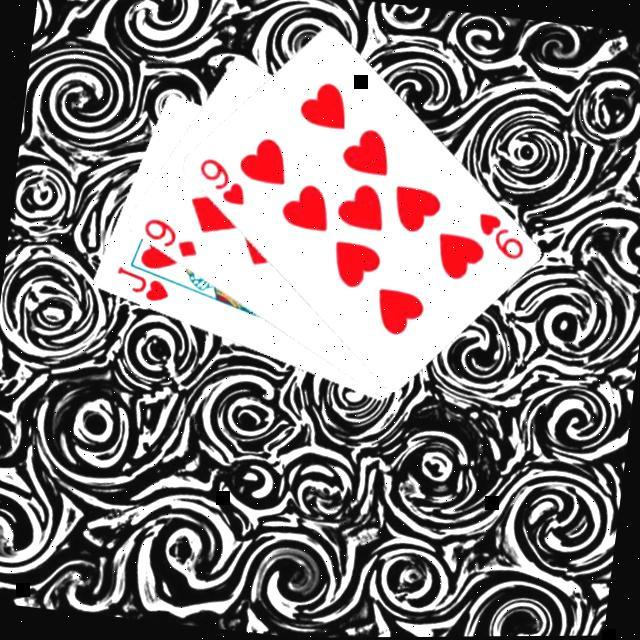9D: (136, 212, 203, 261)
9H: (469, 207, 530, 263), (190, 153, 250, 209)
JH: (109, 261, 173, 304)
